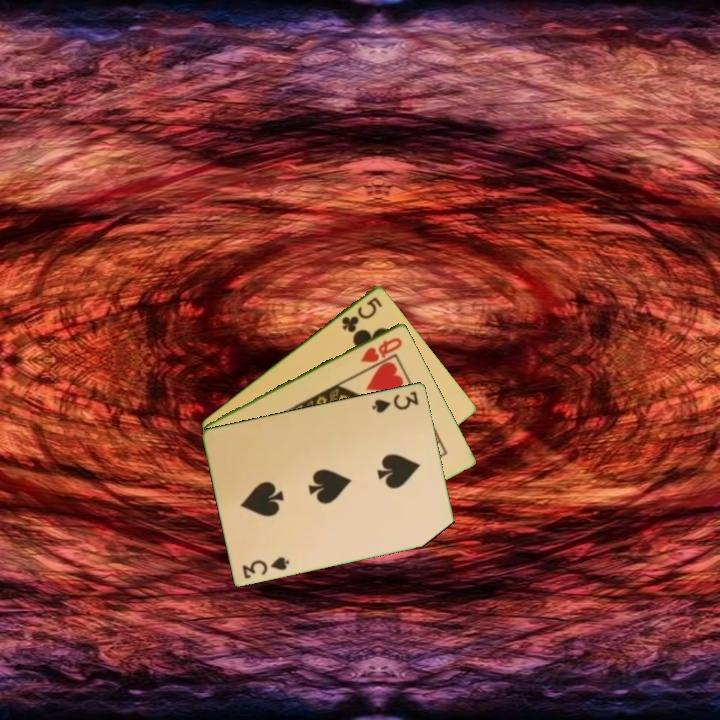3s: (239, 553, 293, 581), (369, 387, 422, 415)
5c: (338, 293, 385, 335)
Qh: (357, 333, 405, 365)
